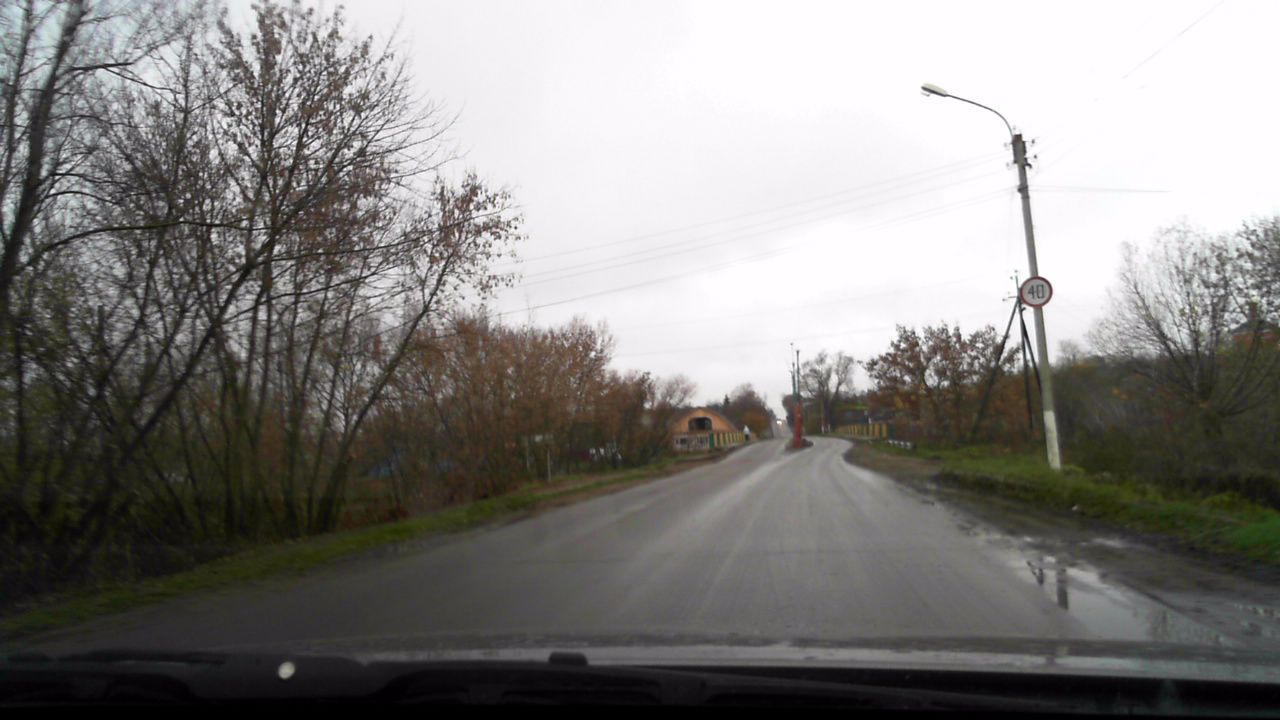speed_warning_40: (1018, 275, 1051, 308)
